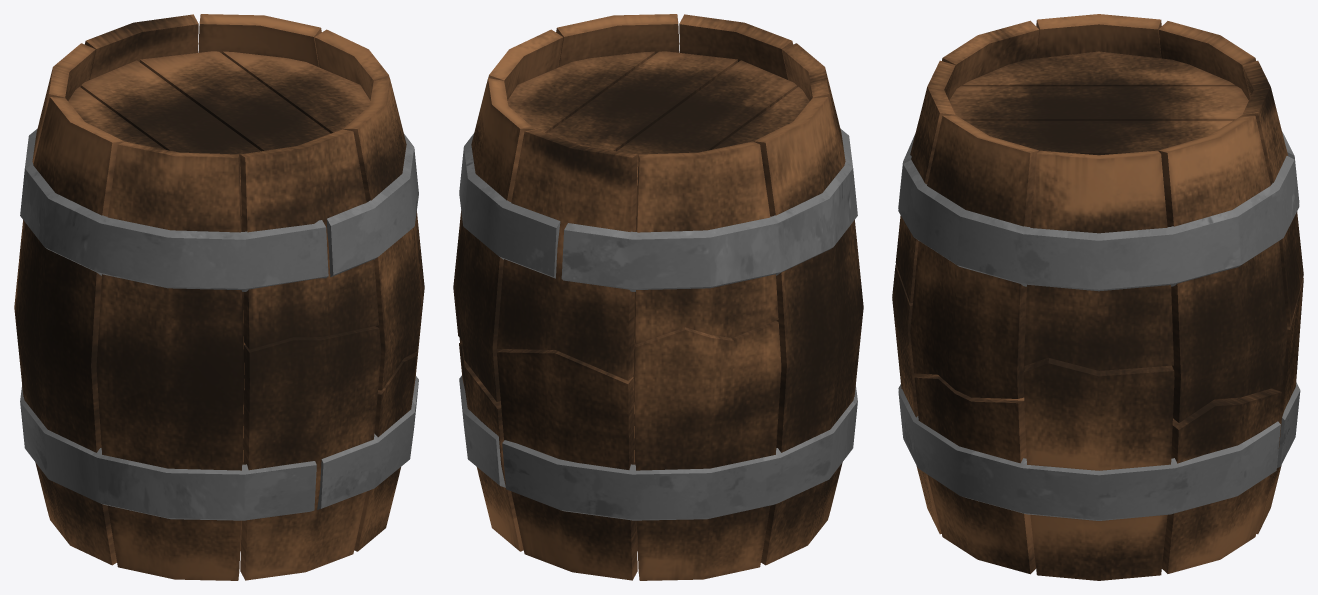
File: Burnt_Barrel.fbx
3 renders of one model, left to right at view 1: azimuth 30°, elevation 25°; view 2: azimuth 150°, elevation 25°; view 3: azimuth 270°, elevation 25°, orthographic.
Parts seen in each view (by area): view 1: Cylinder.030, Cylinder.031, Cylinder.022, Cylinder.042, Cylinder.046, Cylinder.017, Cylinder.041, Cylinder.034, Cylinder.035, Cylinder.016, Cylinder.018, Cylinder.043 (+6 smaller); view 2: Cylinder.032, Cylinder.031, Cylinder.040, Cylinder.015, Cylinder.017, Cylinder.042, Cylinder.047, Cylinder.044, Cylinder.034, Cylinder.035, Cylinder.016, Cylinder.018 (+7 smaller); view 3: Cylinder.016, Cylinder.044, Cylinder.021, Cylinder.041, Cylinder.045, Cylinder.043, Cylinder.039, Cylinder.020, Cylinder.035, Cylinder.034, Cylinder.033, Cylinder.031 (+7 smaller).
Boxes of the visible parts, x1=… form: Cylinder.030: x1=96, y1=141, x2=244, y2=580; Cylinder.031: x1=15, y1=97, x2=124, y2=565; Cylinder.022: x1=240, y1=326, x2=381, y2=580; Cylinder.042: x1=20, y1=128, x2=328, y2=291; Cylinder.046: x1=240, y1=129, x2=378, y2=349; Cylinder.017: x1=20, y1=385, x2=316, y2=520; Cylinder.041: x1=343, y1=78, x2=424, y2=390; Cylinder.034: x1=140, y1=51, x2=330, y2=151; Cylinder.035: x1=80, y1=60, x2=260, y2=215; Cylinder.016: x1=326, y1=134, x2=418, y2=277; Cylinder.018: x1=222, y1=51, x2=370, y2=133; Cylinder.043: x1=317, y1=376, x2=418, y2=509; Cylinder.032: x1=633, y1=321, x2=781, y2=580; Cylinder.031: x1=753, y1=97, x2=862, y2=565; Cylinder.040: x1=497, y1=129, x2=637, y2=380; Cylinder.015: x1=497, y1=349, x2=637, y2=580; Cylinder.017: x1=502, y1=385, x2=857, y2=520; Cylinder.042: x1=561, y1=128, x2=857, y2=291; Cylinder.047: x1=634, y1=141, x2=778, y2=344; Cylinder.044: x1=453, y1=78, x2=534, y2=401; Cylinder.034: x1=547, y1=51, x2=737, y2=151; Cylinder.035: x1=617, y1=60, x2=797, y2=215; Cylinder.016: x1=459, y1=133, x2=560, y2=278; Cylinder.018: x1=507, y1=51, x2=655, y2=133; Cylinder.016: x1=898, y1=156, x2=1299, y2=291; Cylinder.044: x1=1158, y1=115, x2=1287, y2=422; Cylinder.021: x1=1023, y1=357, x2=1174, y2=580; Cylinder.041: x1=910, y1=115, x2=1039, y2=398; Cylinder.045: x1=1024, y1=150, x2=1173, y2=370; Cylinder.043: x1=898, y1=389, x2=1280, y2=520; Cylinder.039: x1=914, y1=374, x2=1035, y2=574; Cylinder.020: x1=1162, y1=388, x2=1281, y2=573; Cylinder.035: x1=949, y1=86, x2=1248, y2=120; Cylinder.034: x1=965, y1=120, x2=1232, y2=154; Cylinder.033: x1=962, y1=51, x2=1235, y2=86; Cylinder.031: x1=1036, y1=14, x2=1161, y2=58.
Size of the model in its own units: 213 by 240 by 212.
Materials: 1 (1 with a texture image).
